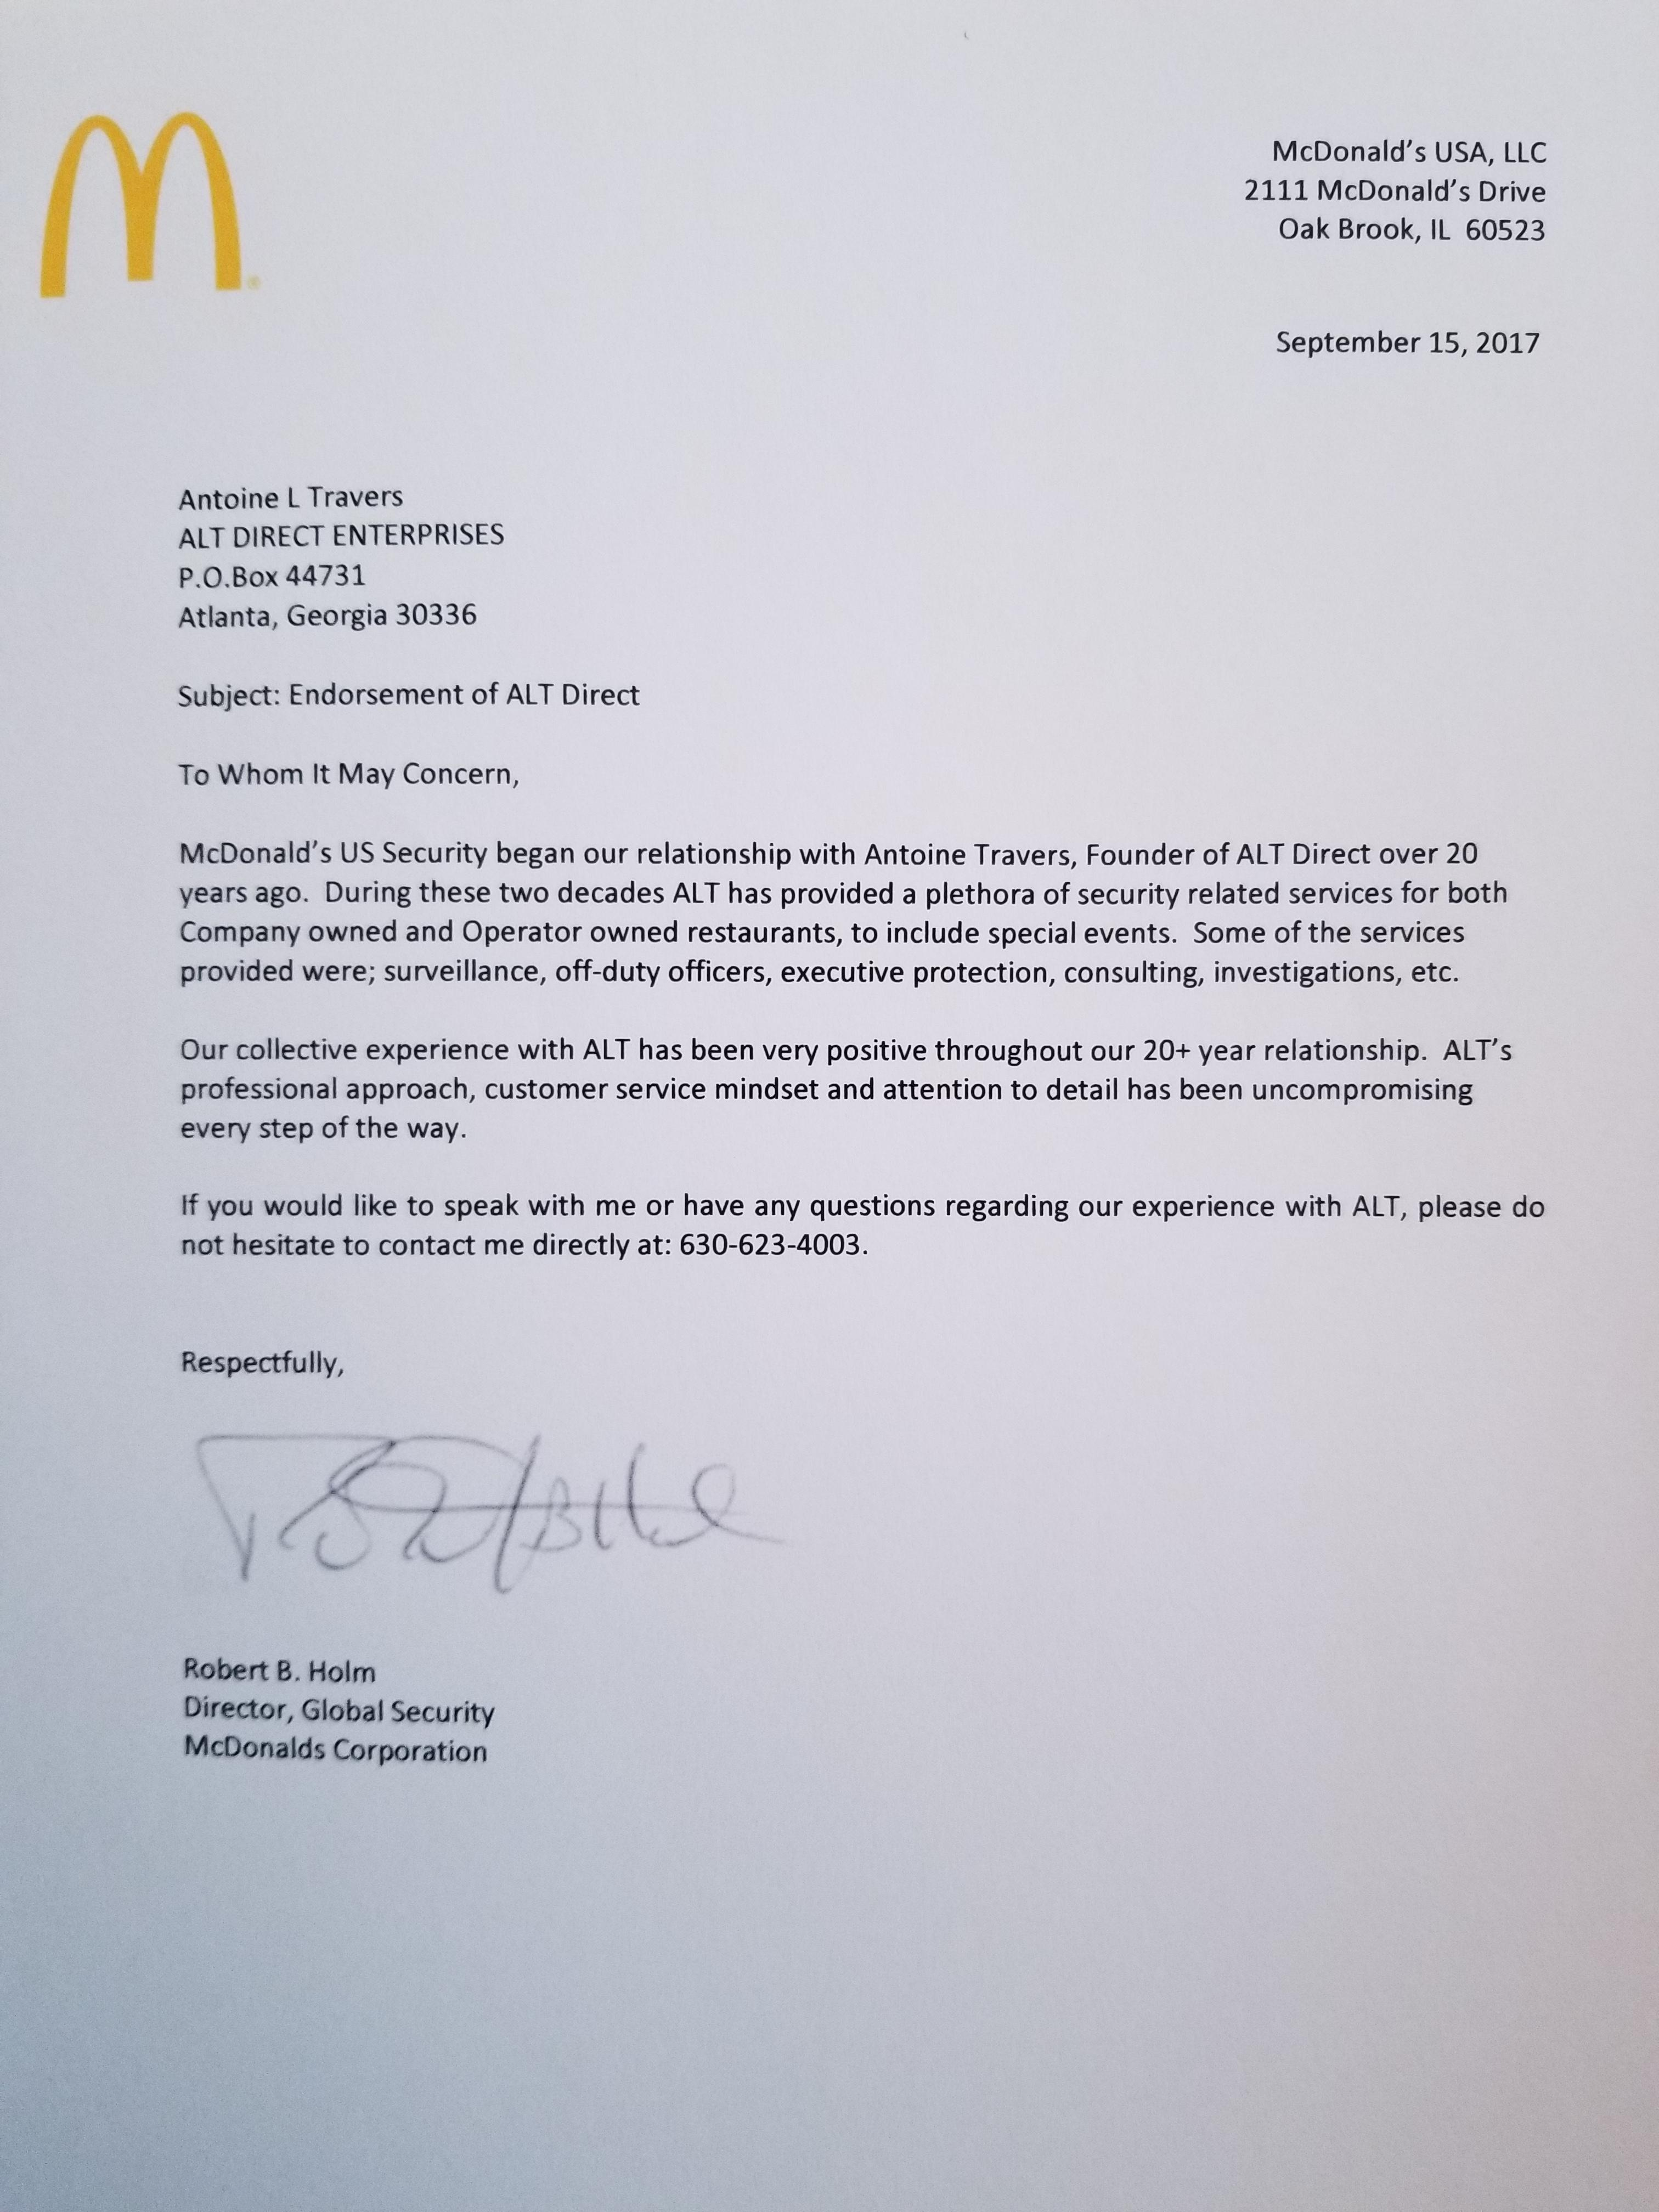mcdonalds: (14, 85, 267, 314)
